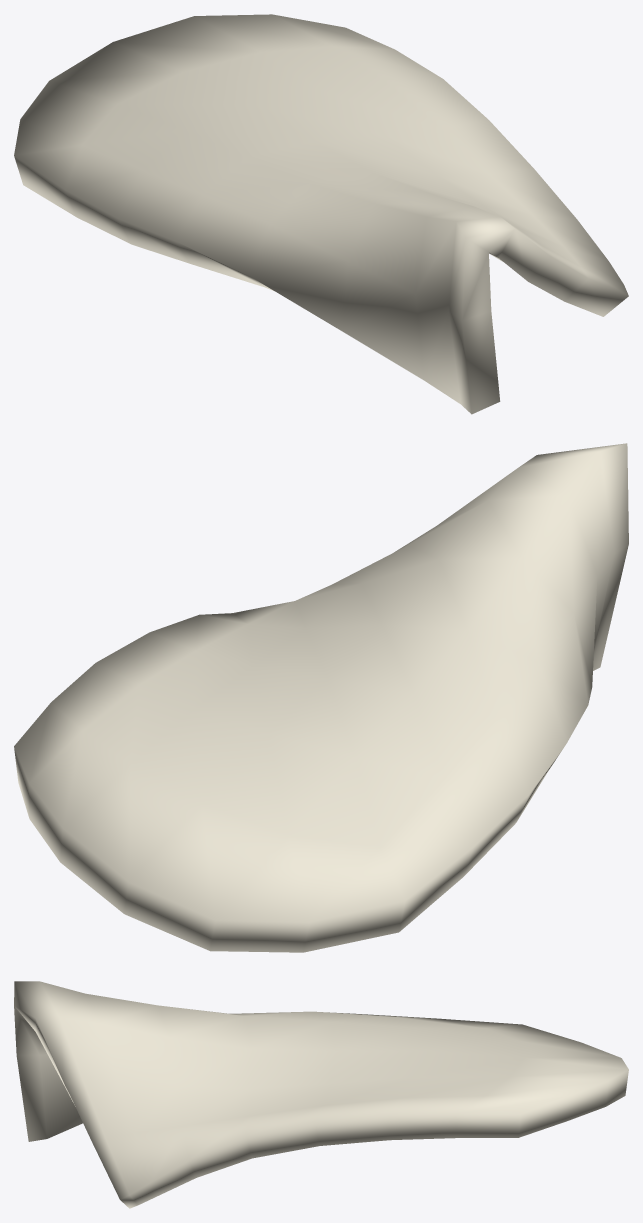
3 views of the same model, one above another, from view 1: azimuth 30°, elevation 25°; view 2: azimuth 150°, elevation 25°; view 3: azimuth 270°, elevation 25° (orthographic). The views are drawn at different scales.
Visible parts, largest first — view 1: ZA_22de09eb0935bfba; view 2: ZA_22de09eb0935bfba; view 3: ZA_22de09eb0935bfba.
Part boxes in pixels (x1,y1,x2,y2): ZA_22de09eb0935bfba: (14,14,628,414); ZA_22de09eb0935bfba: (14,443,628,952); ZA_22de09eb0935bfba: (14,981,628,1208).
Bounding box in the file's own units: 0.00619 × 0.00306 × 0.0113.
